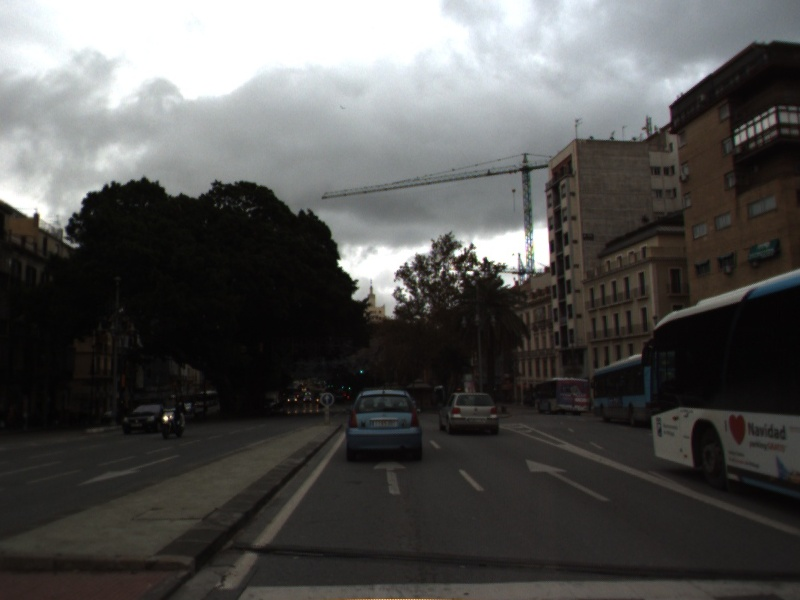STRAIGHT: (523, 456, 613, 504), (371, 457, 409, 497)
